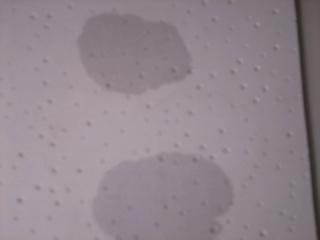Water_detected: (107, 156, 207, 235), (80, 16, 163, 77)
